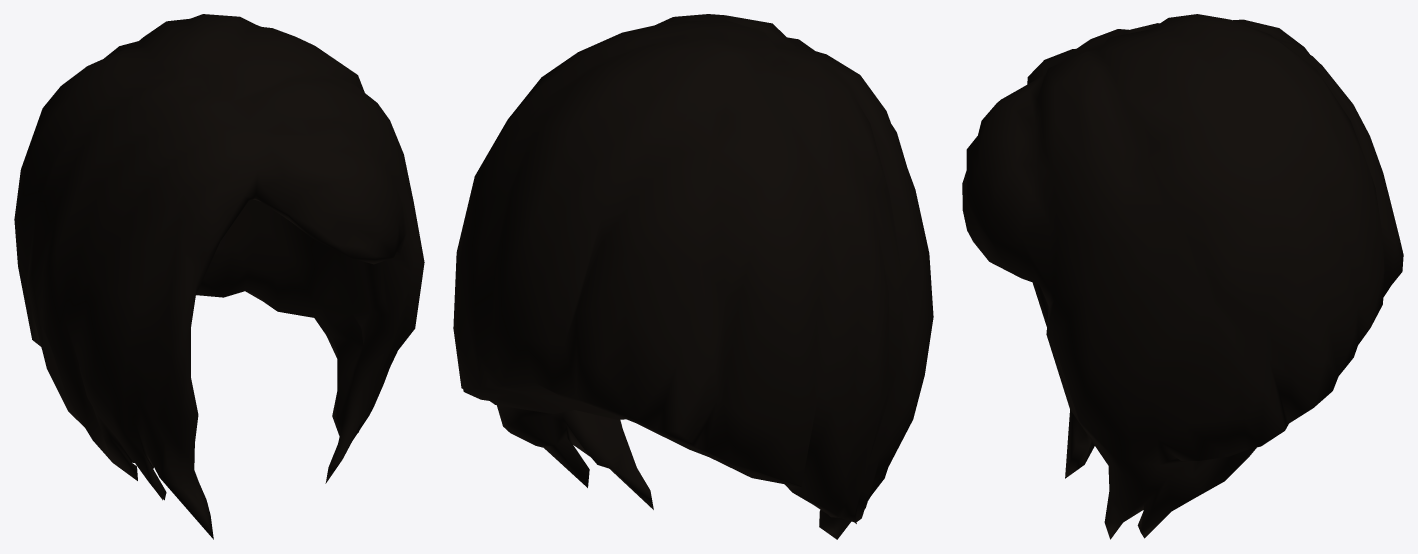
File: femalehair4.glb
3 renders of one model, left to right at view 1: azimuth 30°, elevation 25°; view 2: azimuth 150°, elevation 25°; view 3: azimuth 270°, elevation 25°, orthographic. The views are drawn at different scales.
Visible parts, largest first — view 1: Wolf3D_Hair; view 2: Wolf3D_Hair; view 3: Wolf3D_Hair.
Part boxes in pixels (x1,y1,x2,y2): Wolf3D_Hair: (14,14,424,539); Wolf3D_Hair: (453,14,933,539); Wolf3D_Hair: (962,14,1403,539).
Size of the model in its own units: 0.2287 by 0.2897 by 0.2404.
1 material, 1 textured.
